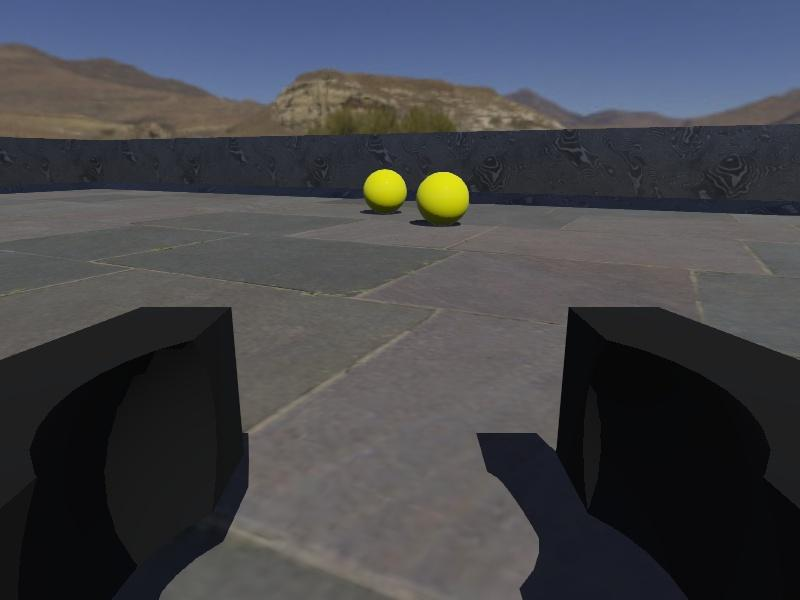yellow ball: (416, 172, 471, 225), (363, 169, 408, 215)
